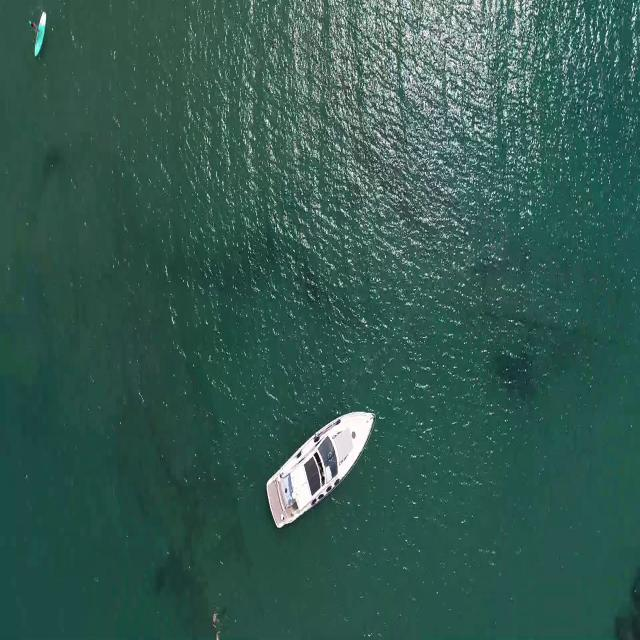boat: (258, 409, 377, 529)
person: (27, 19, 40, 36), (210, 609, 221, 625)
surfboard: (33, 12, 47, 58)
